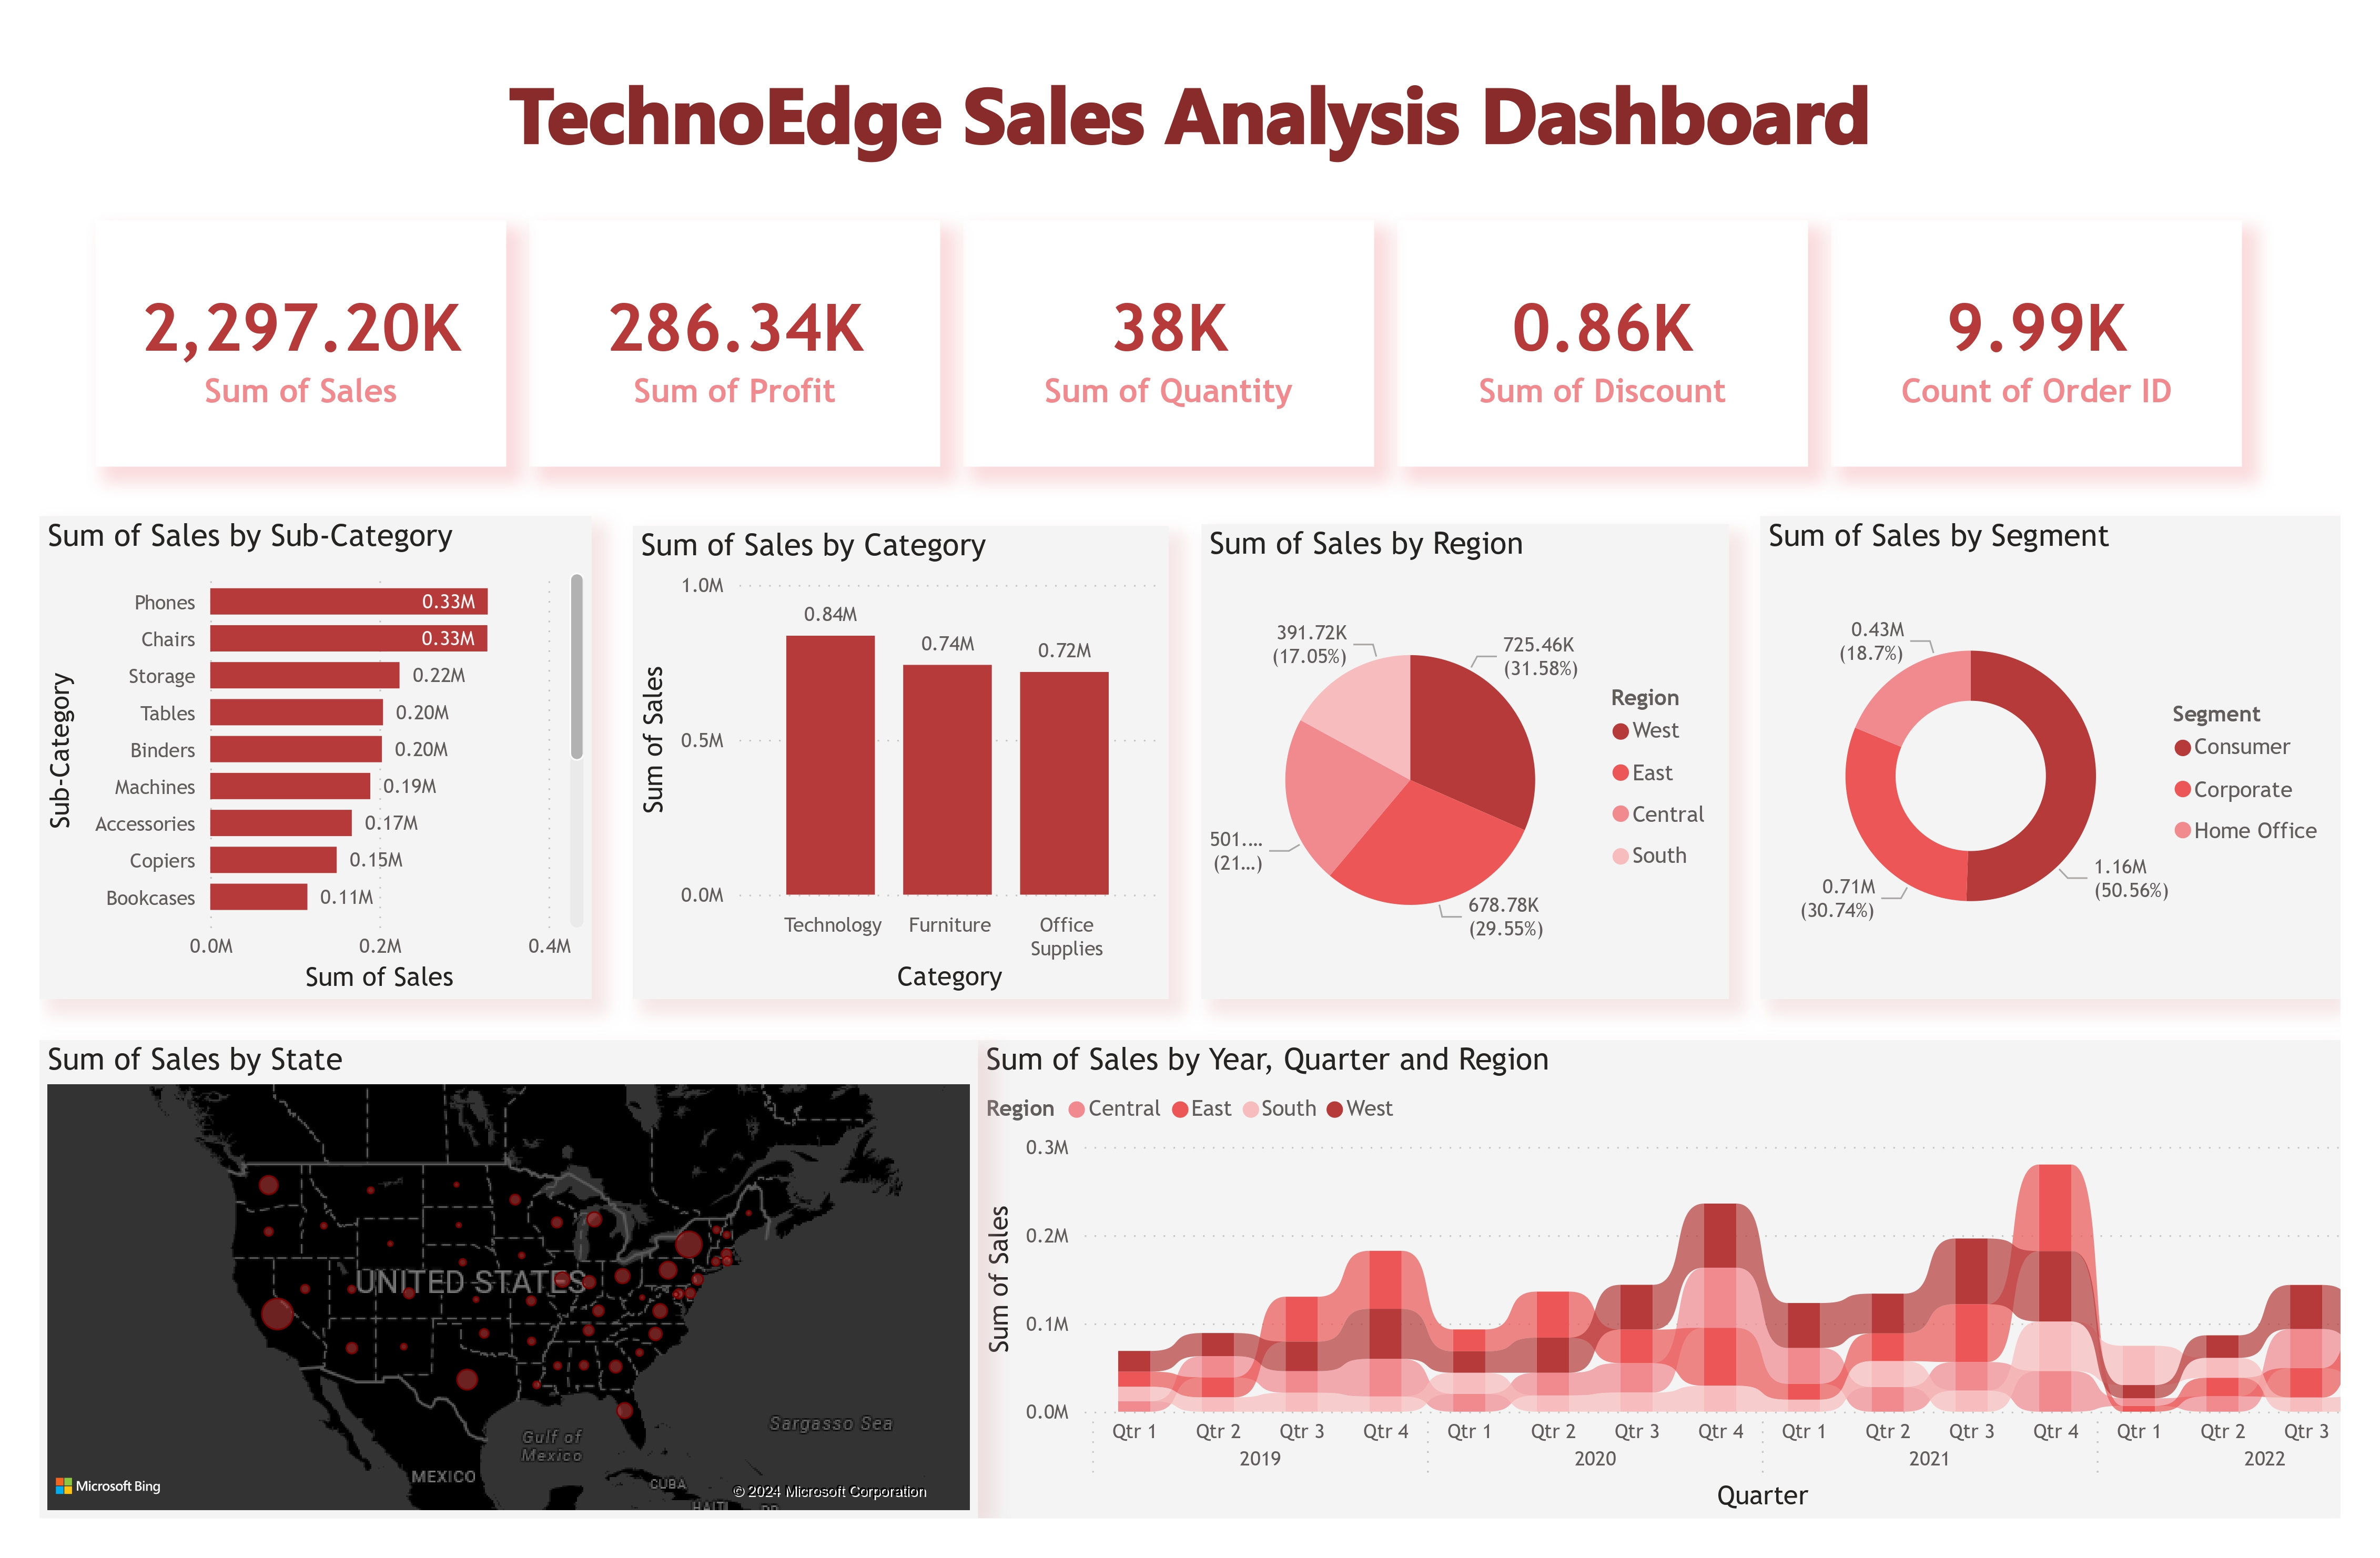

What the dashboard file says about the page in this screenshot:
{"tool":"powerbi","page":{"name":"Page 1","canvas":[1400,900],"ordinal":0},"visuals":[{"type":"barChart","fields":{"Category":["Power BI End to End Project No 2.Sub-Category"],"Y":["Sum(Power BI End to End Project No 2.Sales)"]},"box":[0,290,335.7,294.3],"z":0},{"type":"pieChart","fields":{"Y":["Sum(Power BI End to End Project No 2.Sales)"],"Category":["Power BI End to End Project No 2.Region"]},"box":[707.3,295,321,289],"z":1000},{"type":"donutChart","fields":{"Y":["Sum(Power BI End to End Project No 2.Sales)"],"Category":["Power BI End to End Project No 2.Segment"]},"box":[1047,290,353,294],"z":2000},{"type":"columnChart","fields":{"Category":["Power BI End to End Project No 2.Category"],"Y":["Sum(Power BI End to End Project No 2.Sales)"]},"box":[361.4,295.7,325.7,288.6],"z":3000},{"type":"ribbonChart","fields":{"Category":["Power BI End to End Project No 2.Order Date.Variation.Date Hierarchy.Year","Power BI End to End Project No 2.Order Date.Variation.Date Hierarchy.Quarter","Power BI End to End Project No 2.Order Date.Variation.Date Hierarchy.Month","Power BI End to End Project No 2.Order Date.Variation.Date Hierarchy.Day"],"Y":["Sum(Power BI End to End Project No 2.Sales)"],"Series":["Power BI End to End Project No 2.Region"]},"box":[571.4,608.6,894.3,291.4],"z":4000},{"type":"actionButton","box":[0,0,1400,84.3],"z":5000},{"type":"map","fields":{"Category":["Power BI End to End Project No 2.State"],"Size":["Sum(Power BI End to End Project No 2.Sales)"]},"box":[0,608.6,571.4,291.4],"z":6000},{"type":"card","fields":{"Values":["Sum(Power BI End to End Project No 2.Sales)"]},"box":[34,109.7,250,150],"z":7000},{"type":"card","fields":{"Values":["Sum(Power BI End to End Project No 2.Discount)"]},"box":[826,109.7,250,150],"z":8000},{"type":"card","fields":{"Values":["Sum(Power BI End to End Project No 2.Quantity)"]},"box":[562,109.7,250,150],"z":9000},{"type":"card","fields":{"Values":["Sum(Power BI End to End Project No 2.Profit)"]},"box":[298,109.7,250,150],"z":10000},{"type":"card","fields":{"Values":["CountNonNull(Power BI End to End Project No 2.Order ID)"]},"box":[1090,109.7,250,150],"z":11000}]}

Visuals, with their boxes in screenshot pixels (x1, y1, x2, y2):
barChart - Power BI End to End Project No 2.Sub-Category x Sum(Power BI End to End Project No 2.Sales): <region>39, 516, 591, 1000</region>
pieChart - Sum(Power BI End to End Project No 2.Sales) x Power BI End to End Project No 2.Region: <region>1202, 524, 1729, 999</region>
donutChart - Sum(Power BI End to End Project No 2.Sales) x Power BI End to End Project No 2.Segment: <region>1760, 516, 2341, 999</region>
columnChart - Power BI End to End Project No 2.Category x Sum(Power BI End to End Project No 2.Sales): <region>633, 525, 1169, 1000</region>
ribbonChart - Power BI End to End Project No 2.Order Date.Variation.Date Hierarchy.Year x Power BI End to End Project No 2.Order Date.Variation.Date Hierarchy.Quarter: <region>979, 1040, 2341, 1519</region>
actionButton: <region>39, 39, 2341, 178</region>
map - Power BI End to End Project No 2.State x Sum(Power BI End to End Project No 2.Sales): <region>39, 1040, 979, 1519</region>
card - Sum(Power BI End to End Project No 2.Sales): <region>95, 220, 506, 466</region>
card - Sum(Power BI End to End Project No 2.Discount): <region>1397, 220, 1808, 466</region>
card - Sum(Power BI End to End Project No 2.Quantity): <region>963, 220, 1374, 466</region>
card - Sum(Power BI End to End Project No 2.Profit): <region>529, 220, 940, 466</region>
card - CountNonNull(Power BI End to End Project No 2.Order ID): <region>1831, 220, 2242, 466</region>
